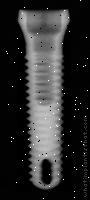Zimmer: (13, 8, 71, 192)
